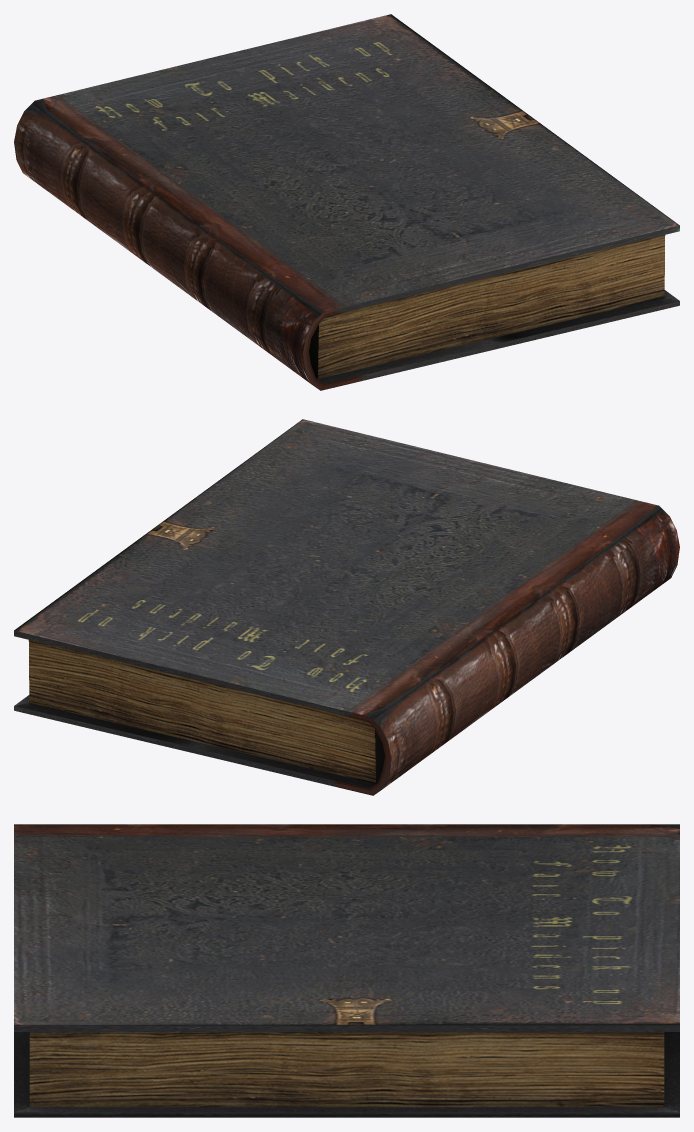
File: libro.obj
3 renders of one model, top to bottom at view 1: azimuth 30°, elevation 25°; view 2: azimuth 150°, elevation 25°; view 3: azimuth 270°, elevation 25°, orthographic. The views are drawn at different scales.
Parts seen in each view (by area): view 1: Mesh_Book_2; view 2: Mesh_Book_2; view 3: Mesh_Book_2.
Boxes of the visible parts, bbox=[...] form: Mesh_Book_2: bbox=[14, 14, 679, 390]; Mesh_Book_2: bbox=[14, 419, 679, 795]; Mesh_Book_2: bbox=[14, 824, 679, 1117].
Size of the model in its own units: 1.96 by 0.3994 by 2.59.
